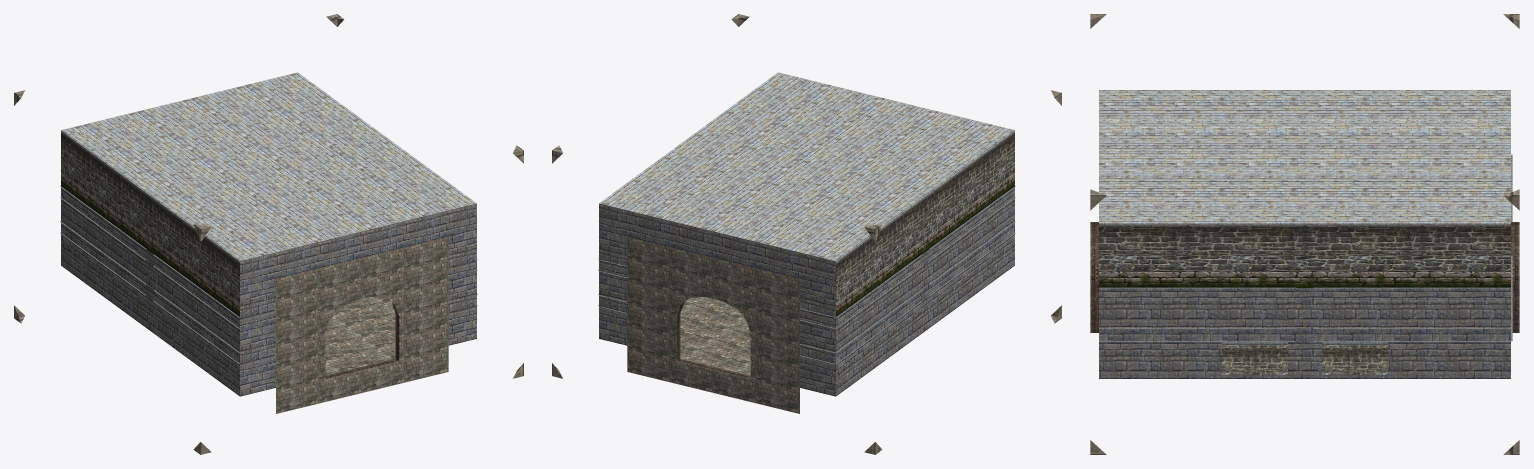
Rendered from lbg_2a.glb.
3 views of the same model, side by side, from view 1: azimuth 30°, elevation 25°; view 2: azimuth 150°, elevation 25°; view 3: azimuth 270°, elevation 25° (orthographic). The views are drawn at different scales.
Parts seen in each view (by area): view 1: lbg_2a; view 2: lbg_2a; view 3: lbg_2a.
Boxes of the visible parts, bbox=[...] form: lbg_2a: bbox=[14, 14, 523, 454]; lbg_2a: bbox=[552, 14, 1061, 454]; lbg_2a: bbox=[1090, 14, 1519, 454].
Bounding box in the file's own units: 15 × 10 × 15.
8 materials, 8 textured.
